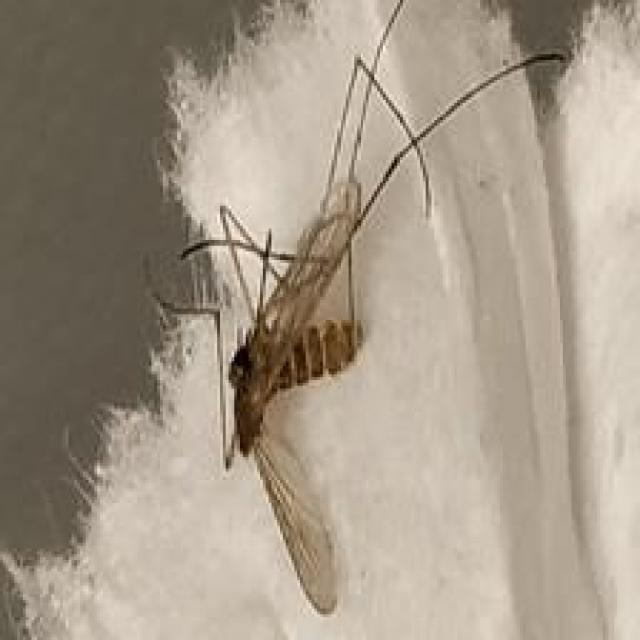Culex: (148, 0, 568, 617)
